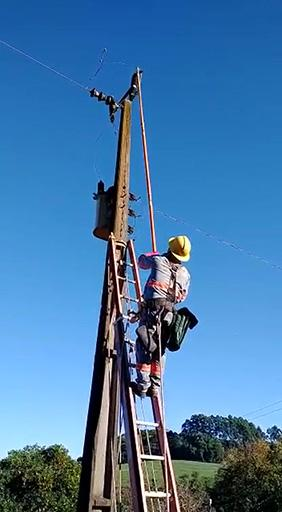Vara_Manobra: (134, 70, 157, 259)
